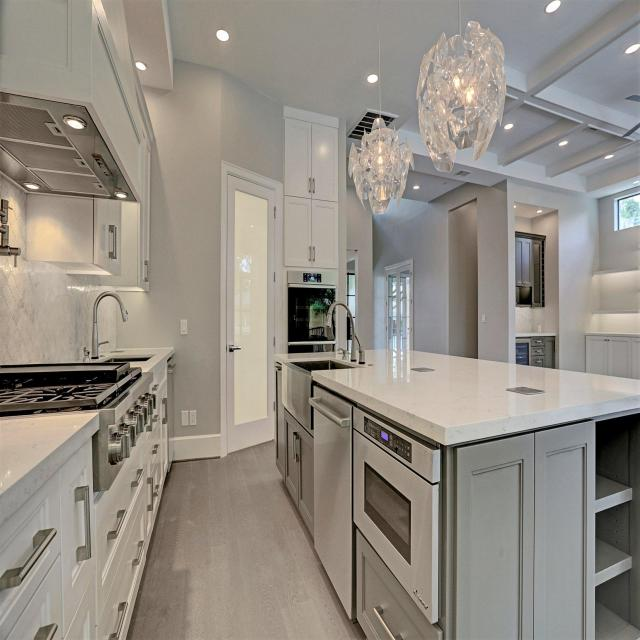dishwasher: (310, 373, 360, 634)
